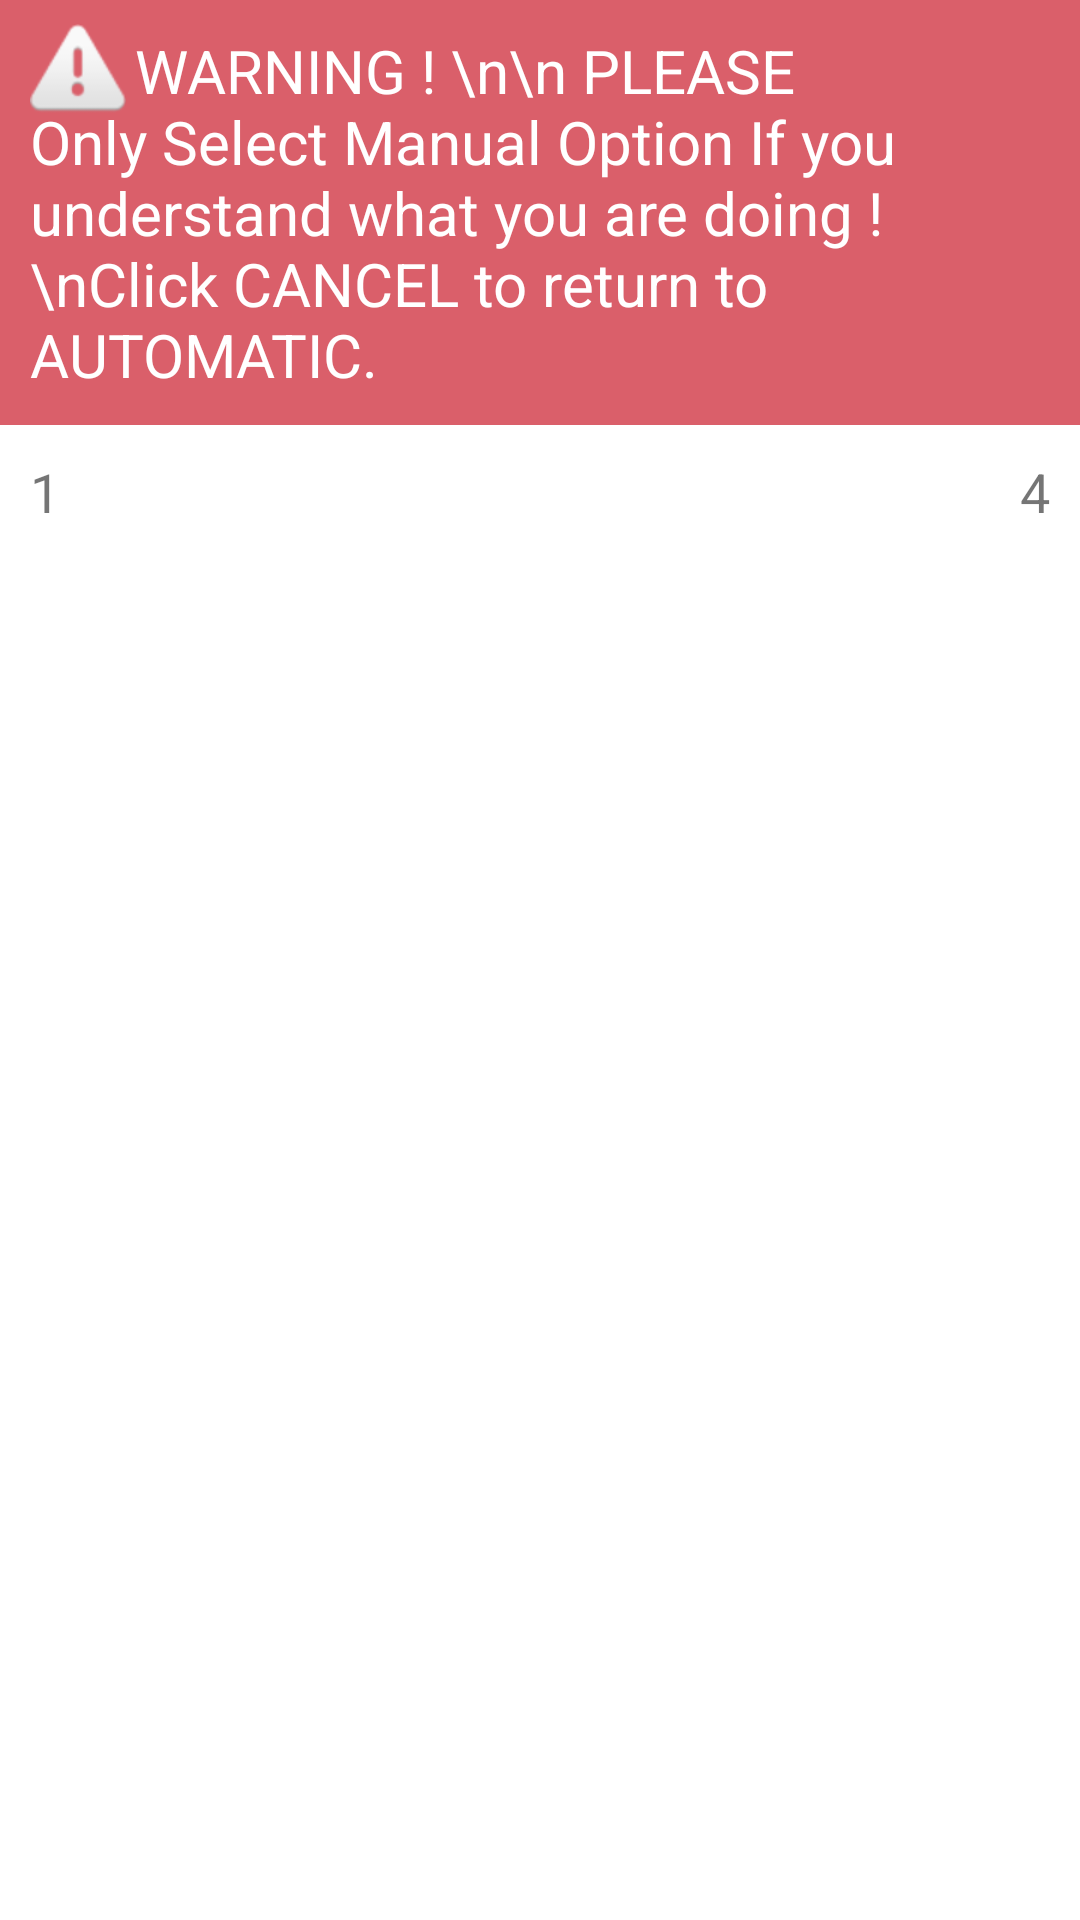

Named icons in this screenshot (1080px×1920px) and their centers, point (x, y):
alert: point (78, 67)
